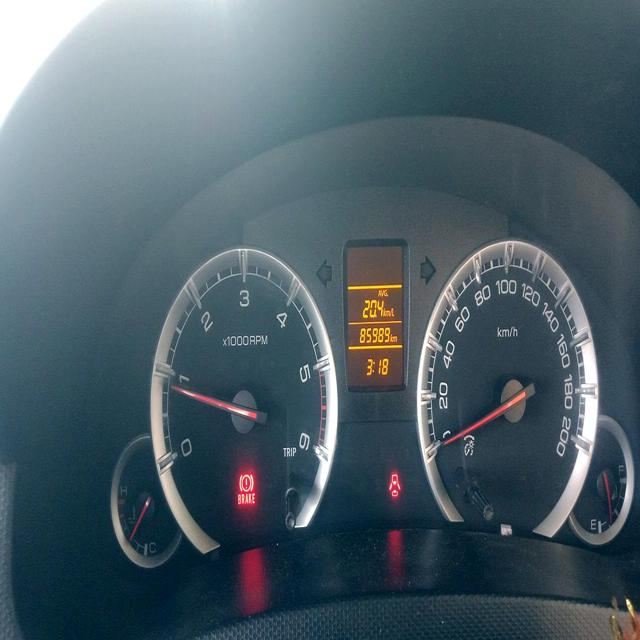odometer: (358, 324, 391, 343)
